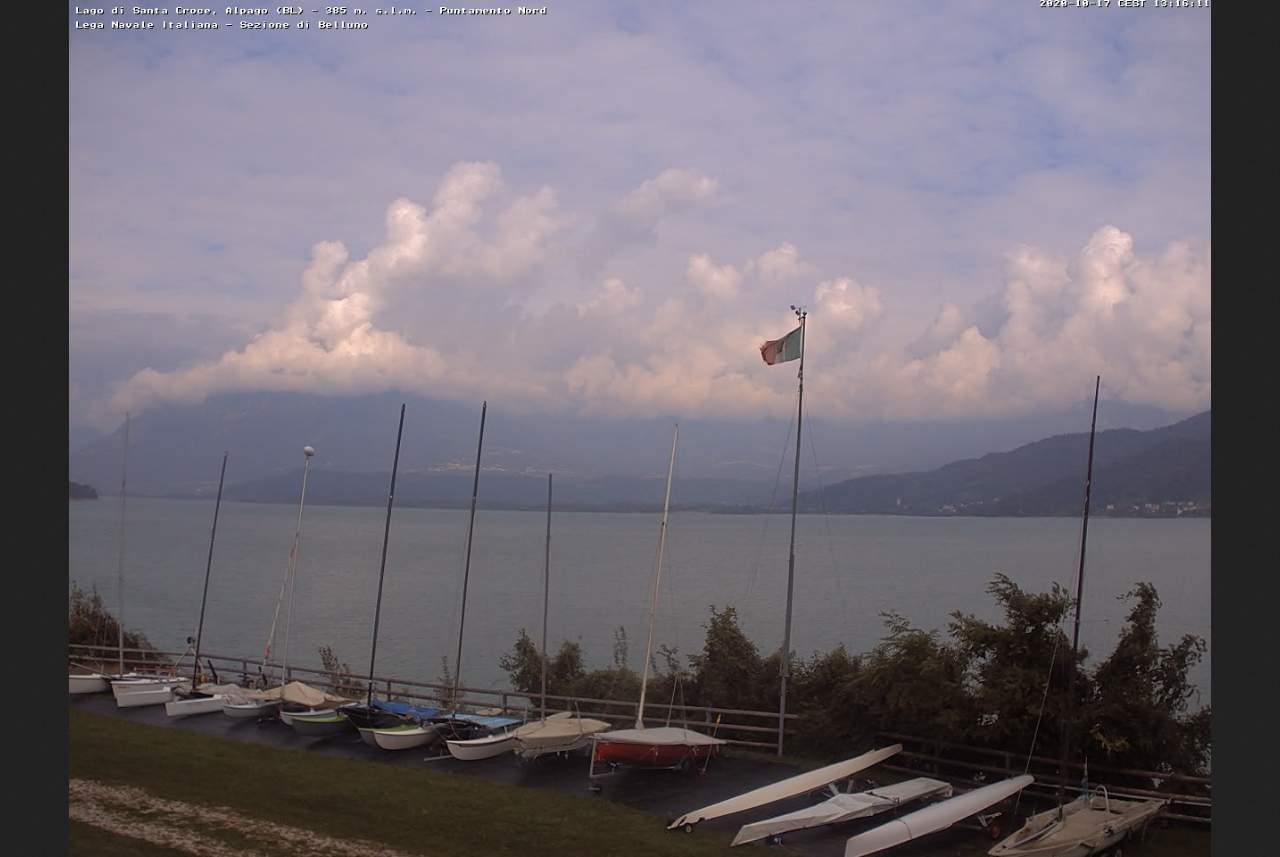maybe: (755, 322, 807, 370)
